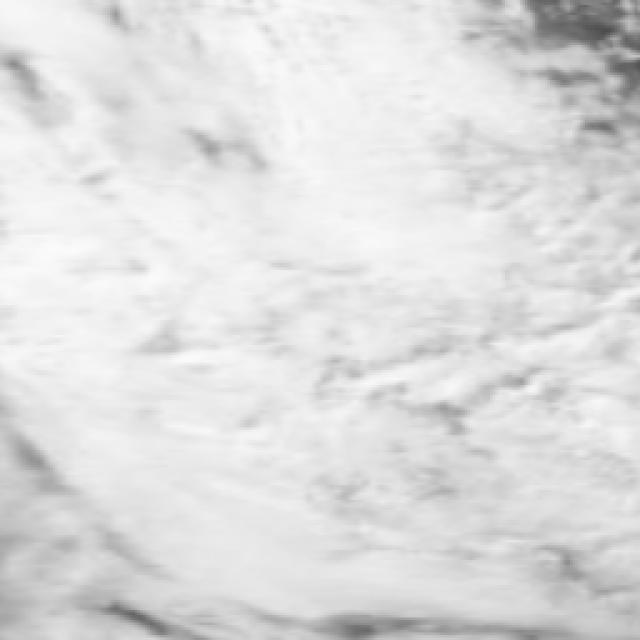CB: (0, 190, 208, 410), (200, 5, 413, 215), (22, 404, 262, 575), (259, 414, 490, 590), (385, 221, 615, 397), (209, 211, 391, 418), (397, 45, 568, 228), (488, 396, 638, 597), (13, 0, 170, 186)
